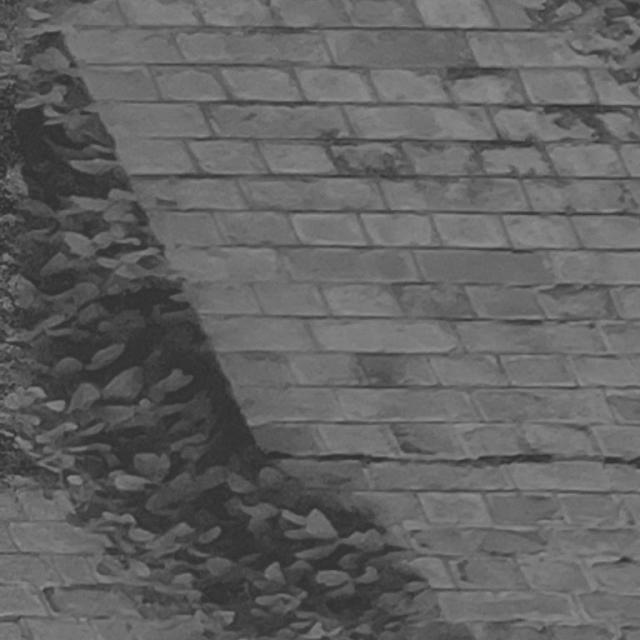crack: (263, 451, 640, 469)
